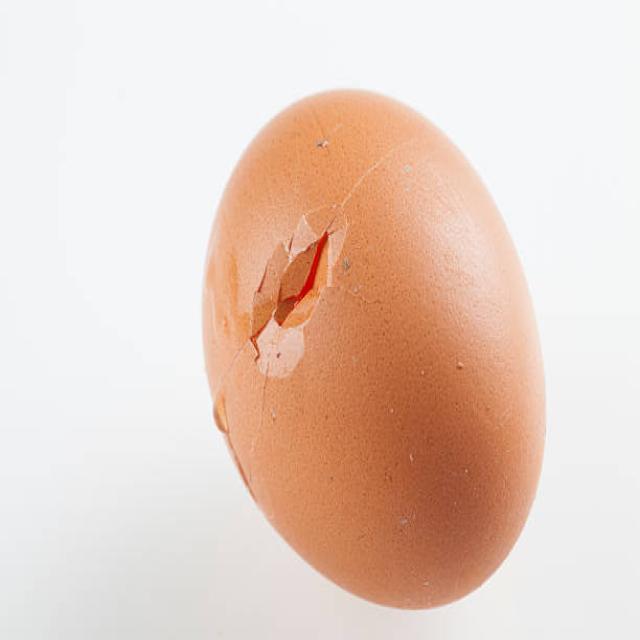Crack: (158, 60, 575, 634)
